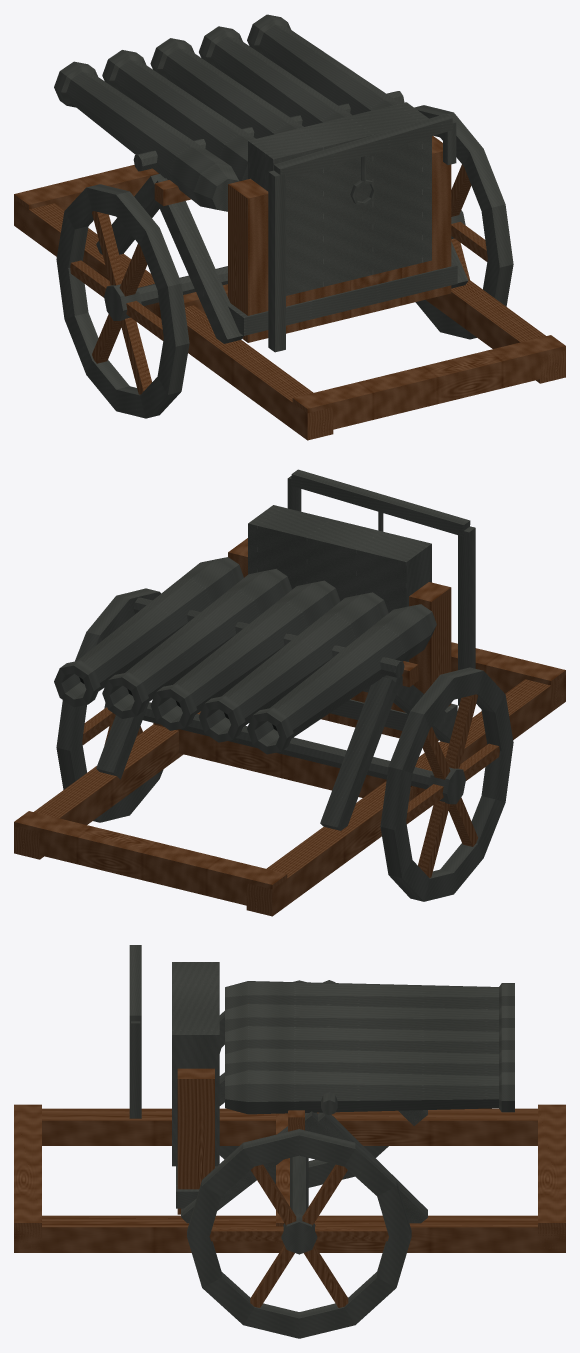
File: hellfire.glb
3 views of the same model, one above another, from view 1: azimuth 30°, elevation 25°; view 2: azimuth 150°, elevation 25°; view 3: azimuth 270°, elevation 25° (orthographic). The views are drawn at different scales.
Parts seen in each view (by area): view 1: turntable, barrel, frame; view 2: turntable, barrel, frame; view 3: turntable, barrel, frame.
Boxes of the visible parts, bbox=[...] form: turntable: bbox=[56, 102, 513, 418]; barrel: bbox=[54, 14, 404, 211]; frame: bbox=[14, 164, 565, 440]; turntable: bbox=[56, 469, 513, 901]; barrel: bbox=[54, 557, 436, 754]; frame: bbox=[14, 642, 565, 916]; turntable: bbox=[129, 945, 427, 1338]; barrel: bbox=[225, 980, 514, 1131]; frame: bbox=[14, 1104, 565, 1252].
Bounding box in the file's own units: 3.98 × 3.31 × 5.9.
Materials: 1 (1 with a texture image).
